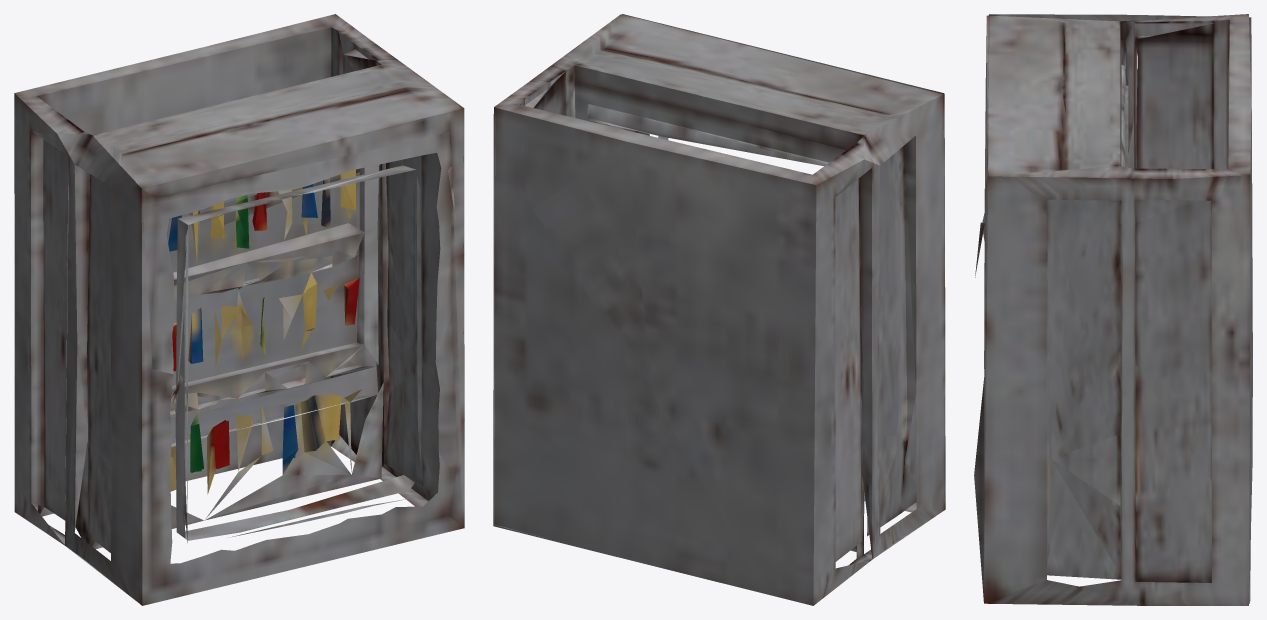
The model's file is p7-key-cabinet.glb.
The picture shows the model from 3 angles, left to right: view 1: azimuth 30°, elevation 25°; view 2: azimuth 150°, elevation 25°; view 3: azimuth 270°, elevation 25°; orthographic projection. The views are drawn at different scales.
Visible parts, largest first — view 1: p7-key-cabinet; view 2: p7-key-cabinet; view 3: p7-key-cabinet.
Boxes of the visible parts, left/top/right/bottom form: p7-key-cabinet: left=14, top=14, right=464, bottom=605; p7-key-cabinet: left=493, top=14, right=945, bottom=605; p7-key-cabinet: left=974, top=14, right=1252, bottom=605.
Bounding box in the file's own units: 0.45 × 0.55 × 0.3212.
Materials: 1 (1 with a texture image).
